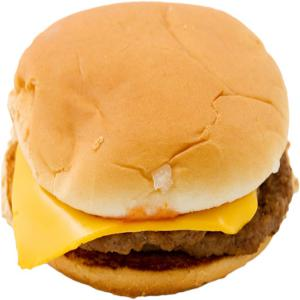cheeseburger_475cal: (2, 2, 300, 293)
